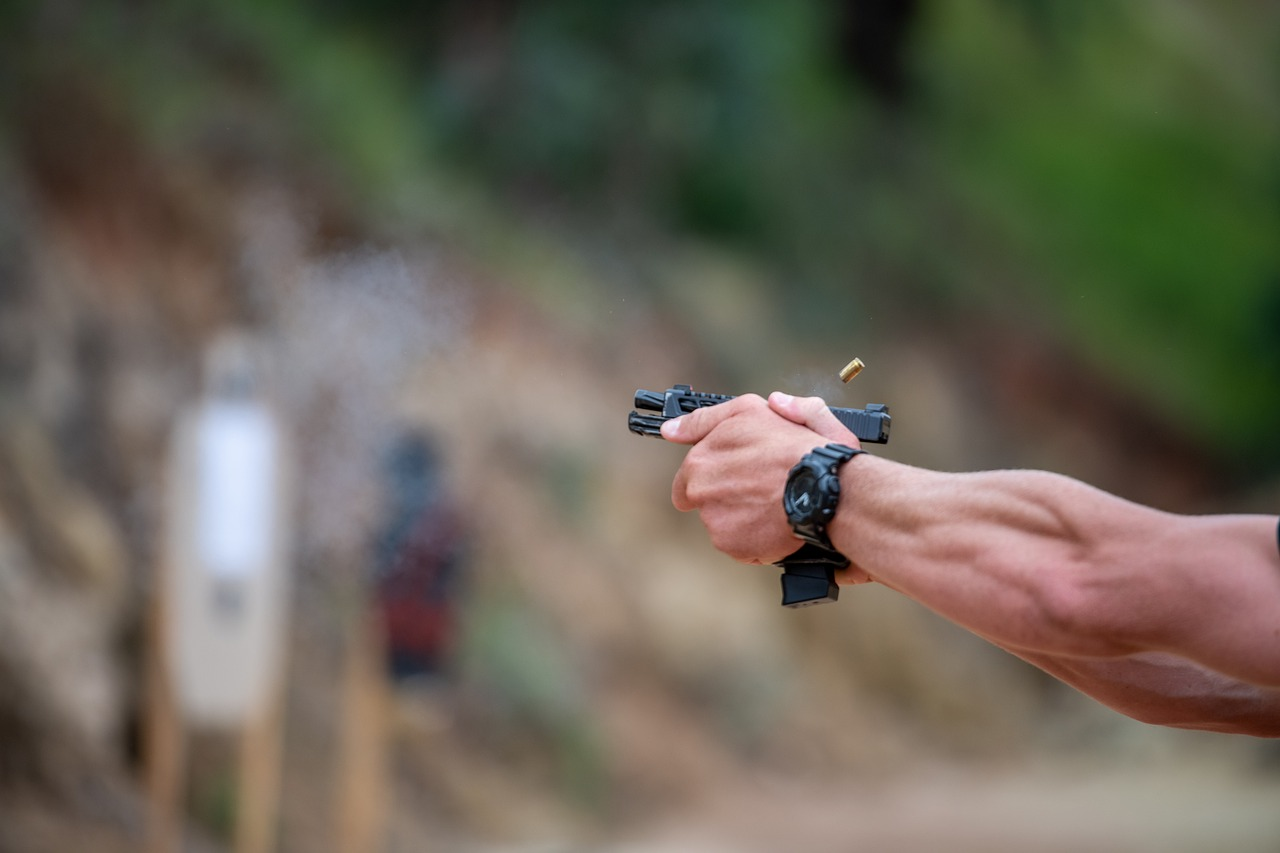gun: (621, 378, 895, 615)
